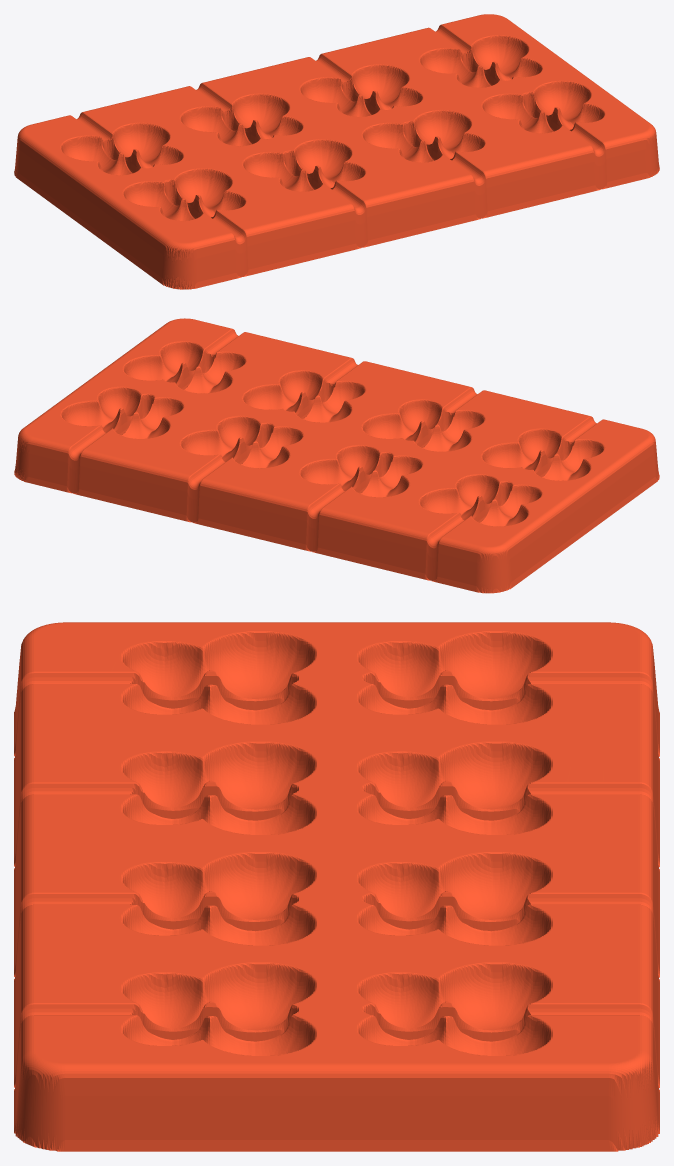
Rendered from mold.glb.
The picture shows the model from 3 angles, top to bottom: view 1: azimuth 30°, elevation 25°; view 2: azimuth 150°, elevation 25°; view 3: azimuth 270°, elevation 25°; orthographic projection. The views are drawn at different scales.
Parts seen in each view (by area): view 1: geometry_0; view 2: geometry_0; view 3: geometry_0.
Part boxes in pixels (x1,y1,x2,y2): geometry_0: [14, 14, 659, 289]; geometry_0: [14, 318, 659, 593]; geometry_0: [14, 622, 659, 1151].
Bounding box in the file's own units: 0.1907 × 0.0155 × 0.1139.
